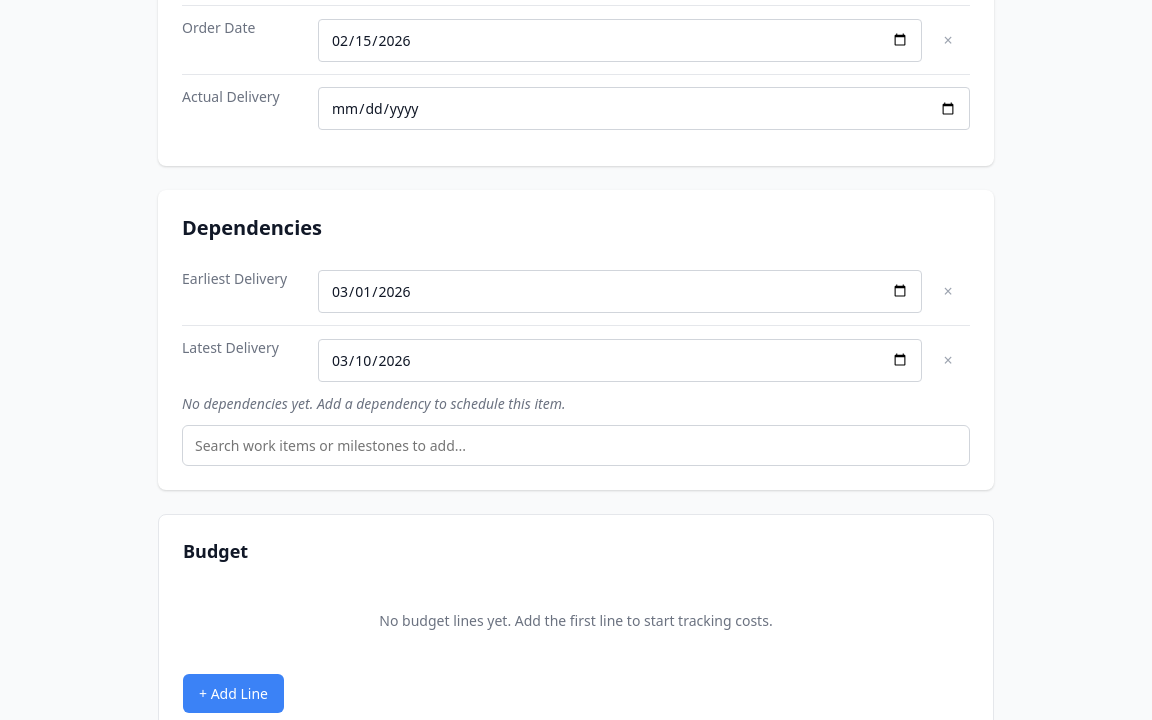
Test: HouseholdItemDetailPage — inline date editing (Story #467) › Autosave error handling › shows an inline error message when updateHouseholdItem rejects on latest delivery blur
This screenshot has width=1152, height=720.
(page scrolled)
Expected: the date field labelled "Order Date" is shown, [318,18,922,62]
In the date field labelled "Latest Delivery": (620, 360) [318,338,922,382], type "2026-03-15"
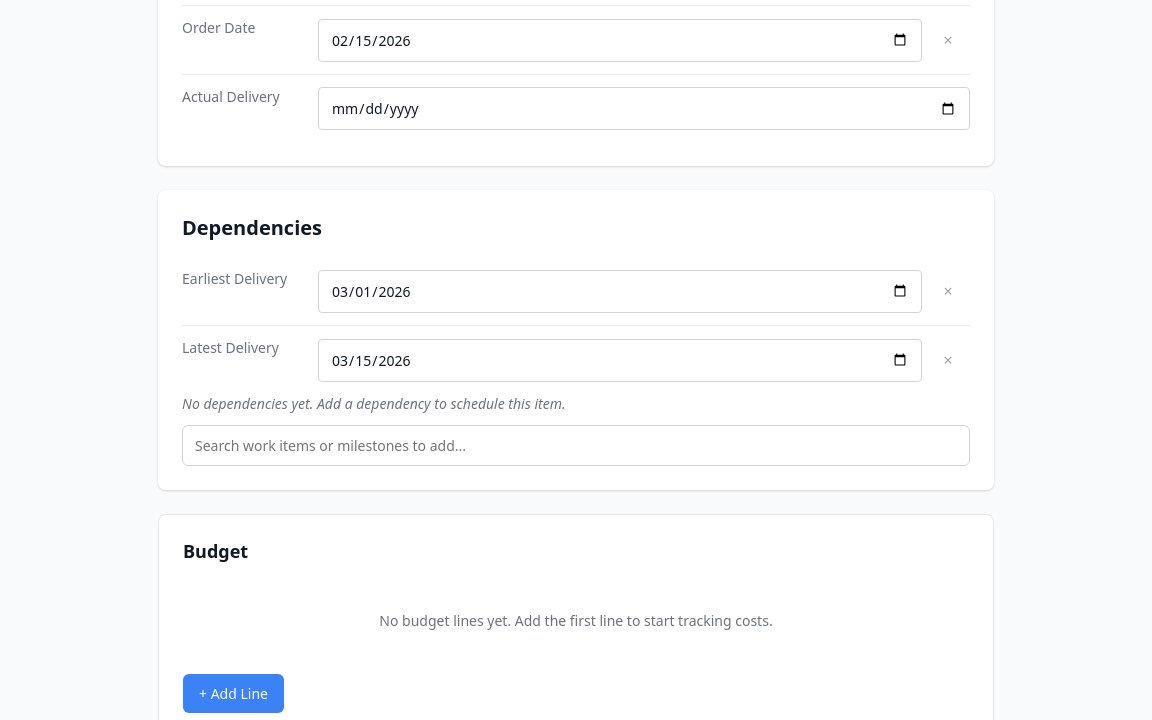
Leave the date field labelled "Latest Delivery", box [318,338,922,382]
(page scrolled)
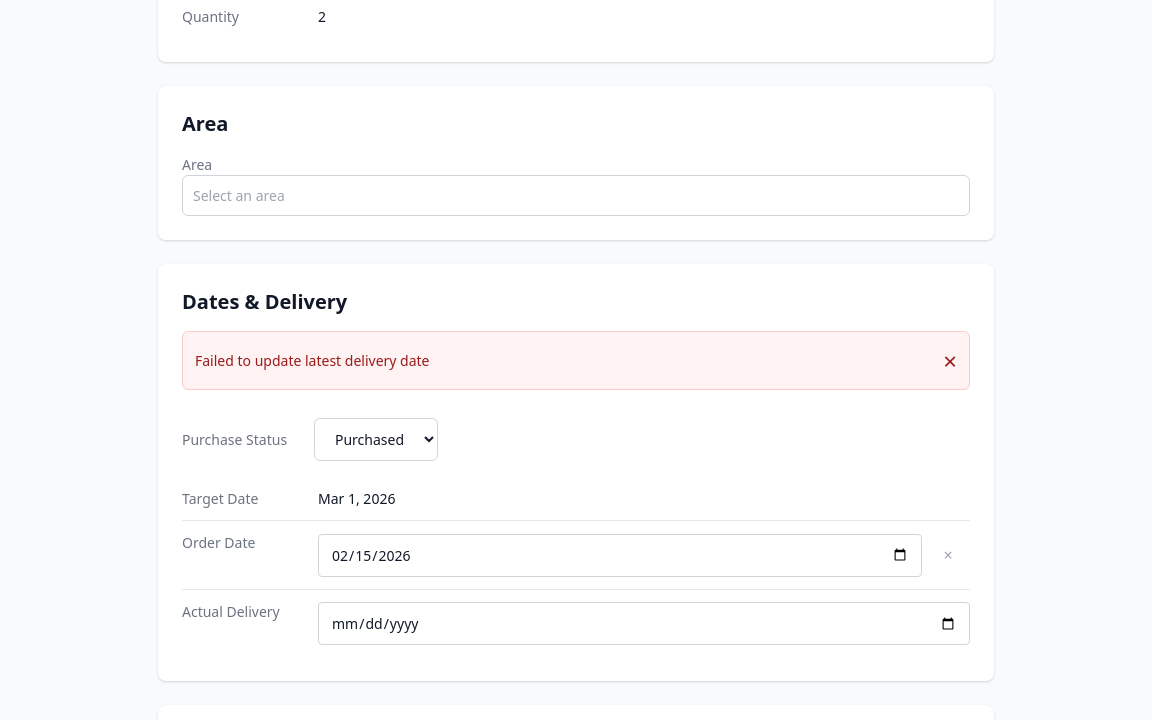
Expected: the message "Failed to update latest delivery date ×" is shown, [182,331,970,390]
Expected: the message shows "Failed to update latest delivery date", [195,351,430,370]
